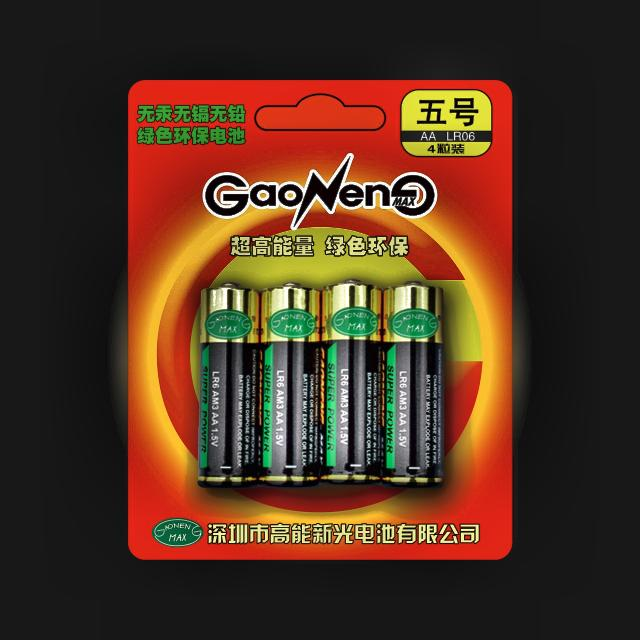Non-Valuable Waste - Batteries: (198, 282, 261, 488), (382, 281, 444, 488), (320, 279, 382, 484), (260, 282, 321, 486)
